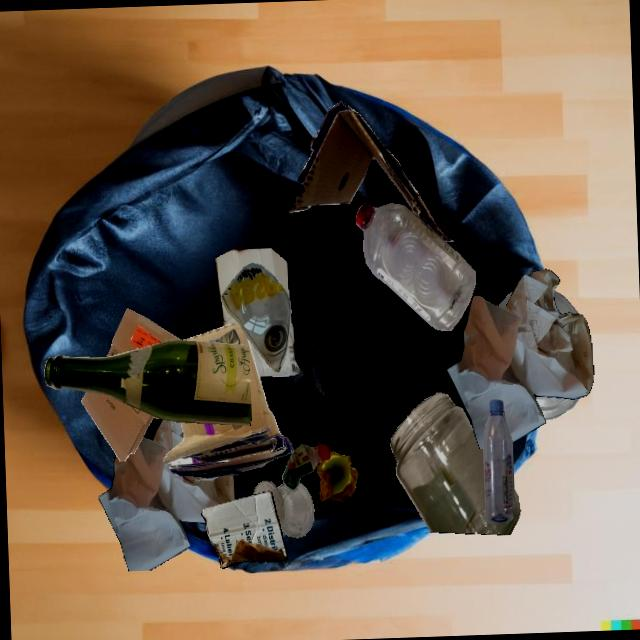biowaste: (316, 449, 358, 501)
cardboard: (289, 100, 453, 241), (163, 323, 293, 478), (201, 490, 287, 568), (81, 391, 154, 461), (221, 295, 281, 369), (106, 308, 182, 357), (215, 248, 288, 298)
glass: (389, 392, 520, 534), (44, 339, 251, 425), (221, 262, 291, 372), (253, 480, 314, 538)
paper: (447, 268, 593, 449), (98, 419, 234, 571), (208, 329, 240, 344)
plastic: (356, 202, 475, 330), (499, 295, 575, 398), (483, 399, 514, 523), (282, 444, 330, 490), (153, 415, 160, 418)
